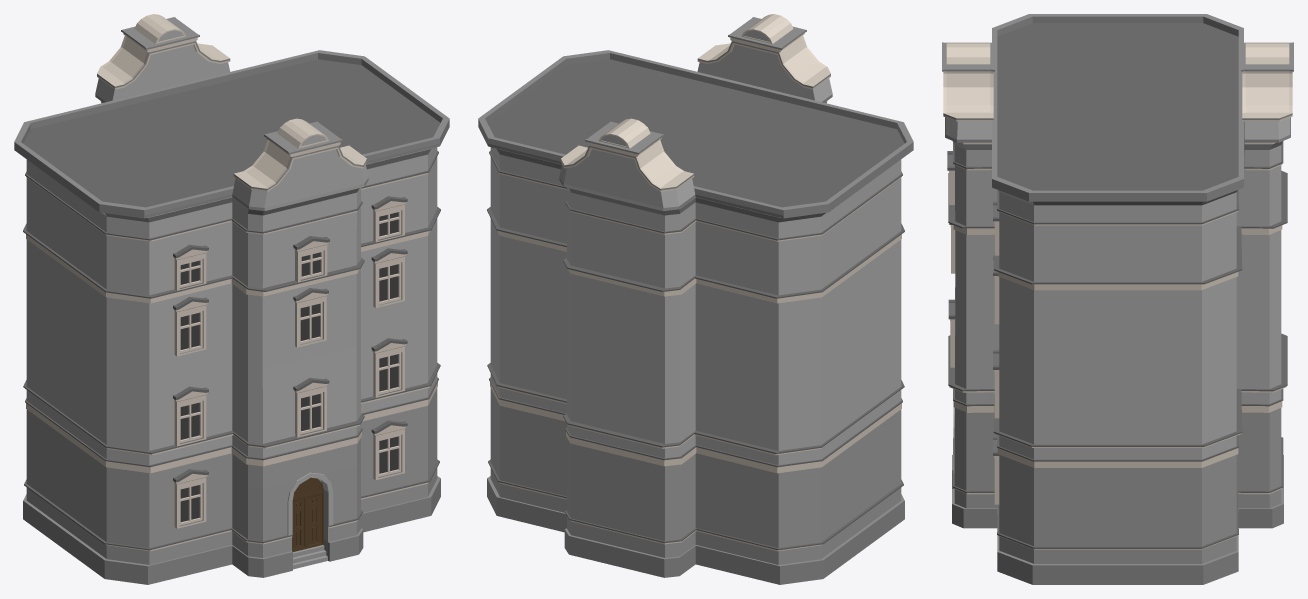
File: house-grey.glb
3 views of the same model, side by side, from view 1: azimuth 30°, elevation 25°; view 2: azimuth 150°, elevation 25°; view 3: azimuth 270°, elevation 25° (orthographic). The views are drawn at different scales.
Parts seen in each view (by area): view 1: Building4; view 2: Building4; view 3: Building4.
Part boxes in pixels (box(x1,y1,x2,y2)): Building4: box(14, 14, 449, 584); Building4: box(478, 14, 913, 584); Building4: box(942, 14, 1293, 584).
Size of the model in its own units: 4.64 by 5.49 by 3.86.
